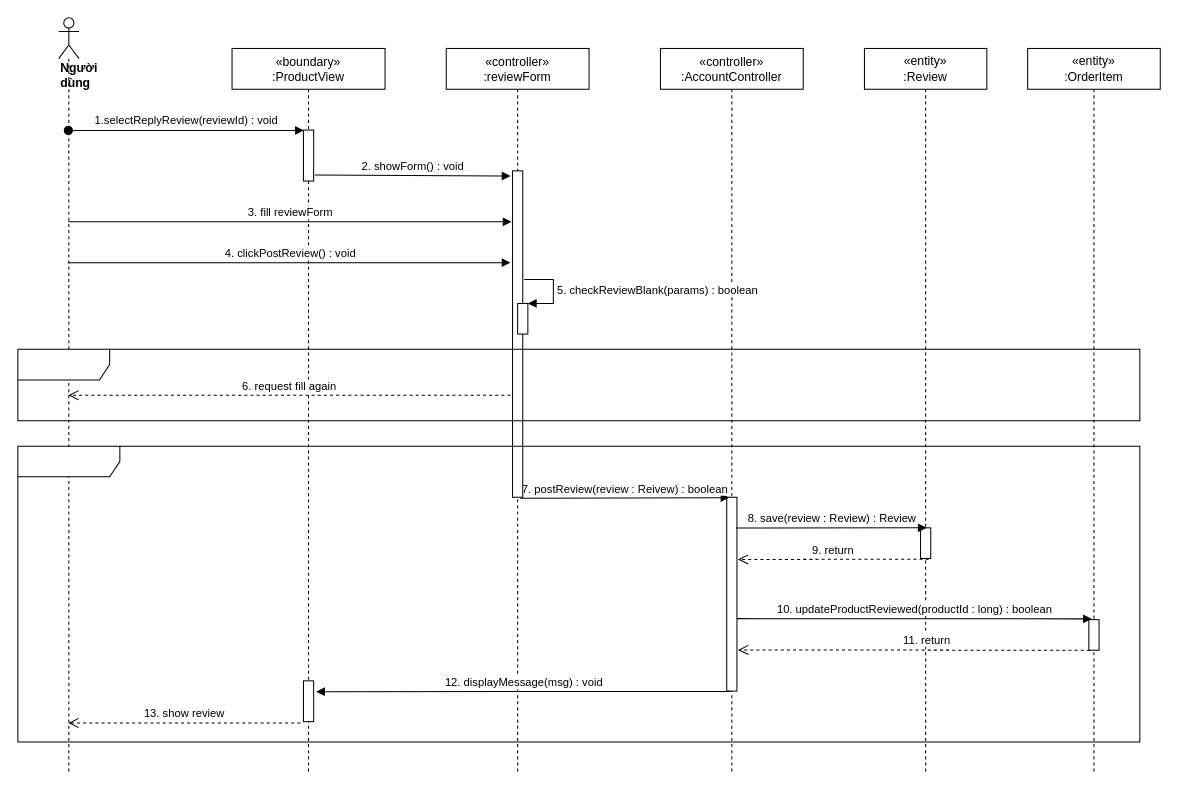
This 1178x791 diagram has some shape labels left out. The centre of each missing label's shape, as x and y in pixels:
"check blank true" goes at [578,593].
"review is blank" goes at [578,384].
